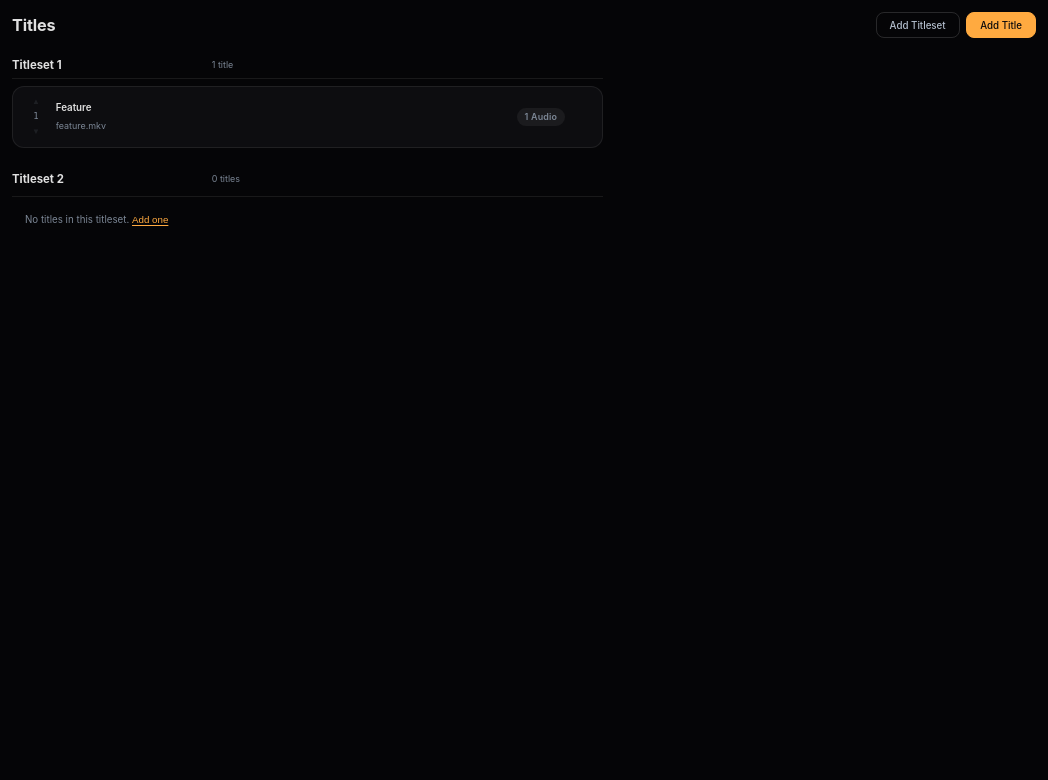
Test case: TitlesPage › audio track bitrate control › defaults to Auto Bitrate (no override) for a track with no override
What coordinates should you click on to do the following:
click the text "Feature"
I would click on:
 (74, 108)
Its box is top-left (56, 102), bottom-right (92, 113).
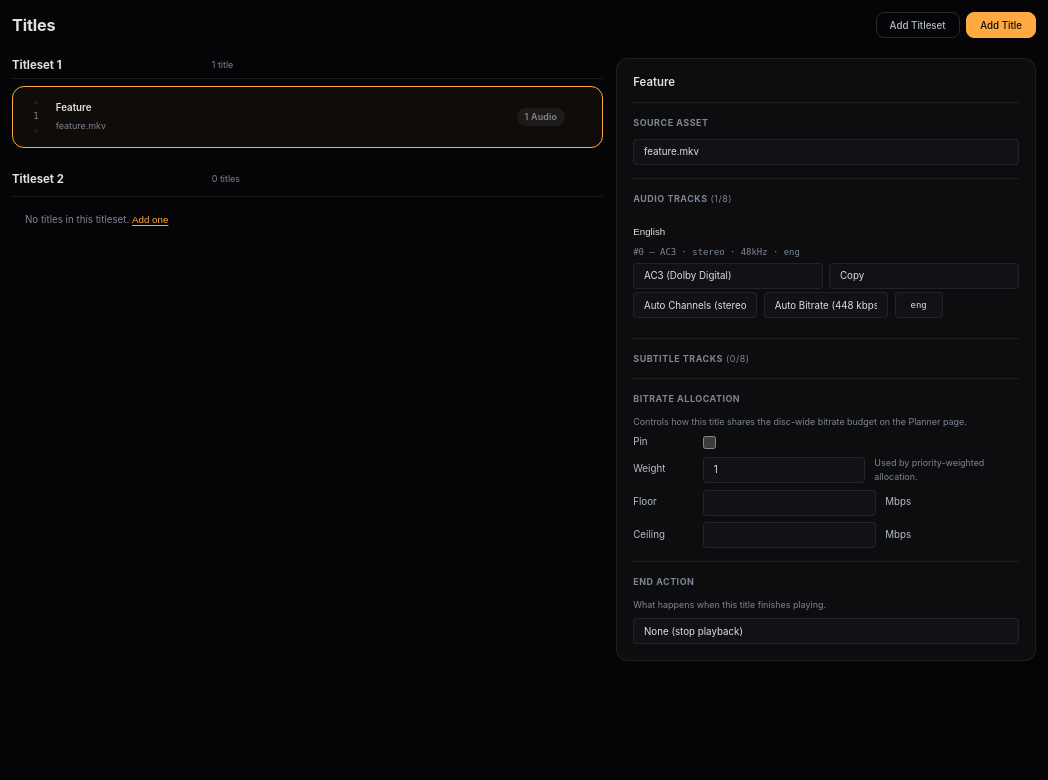
Expected: the dropdown titled "Selecting a bitrate switches this track to Re-encode, since" shows "Auto Bitrate (448 kbps)", top-left (764, 292), bottom-right (888, 318)
